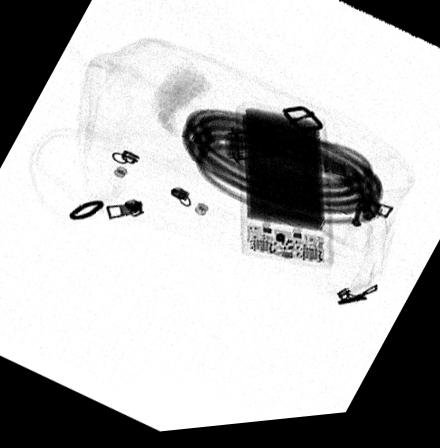Powerbank: (234, 105, 331, 275)
